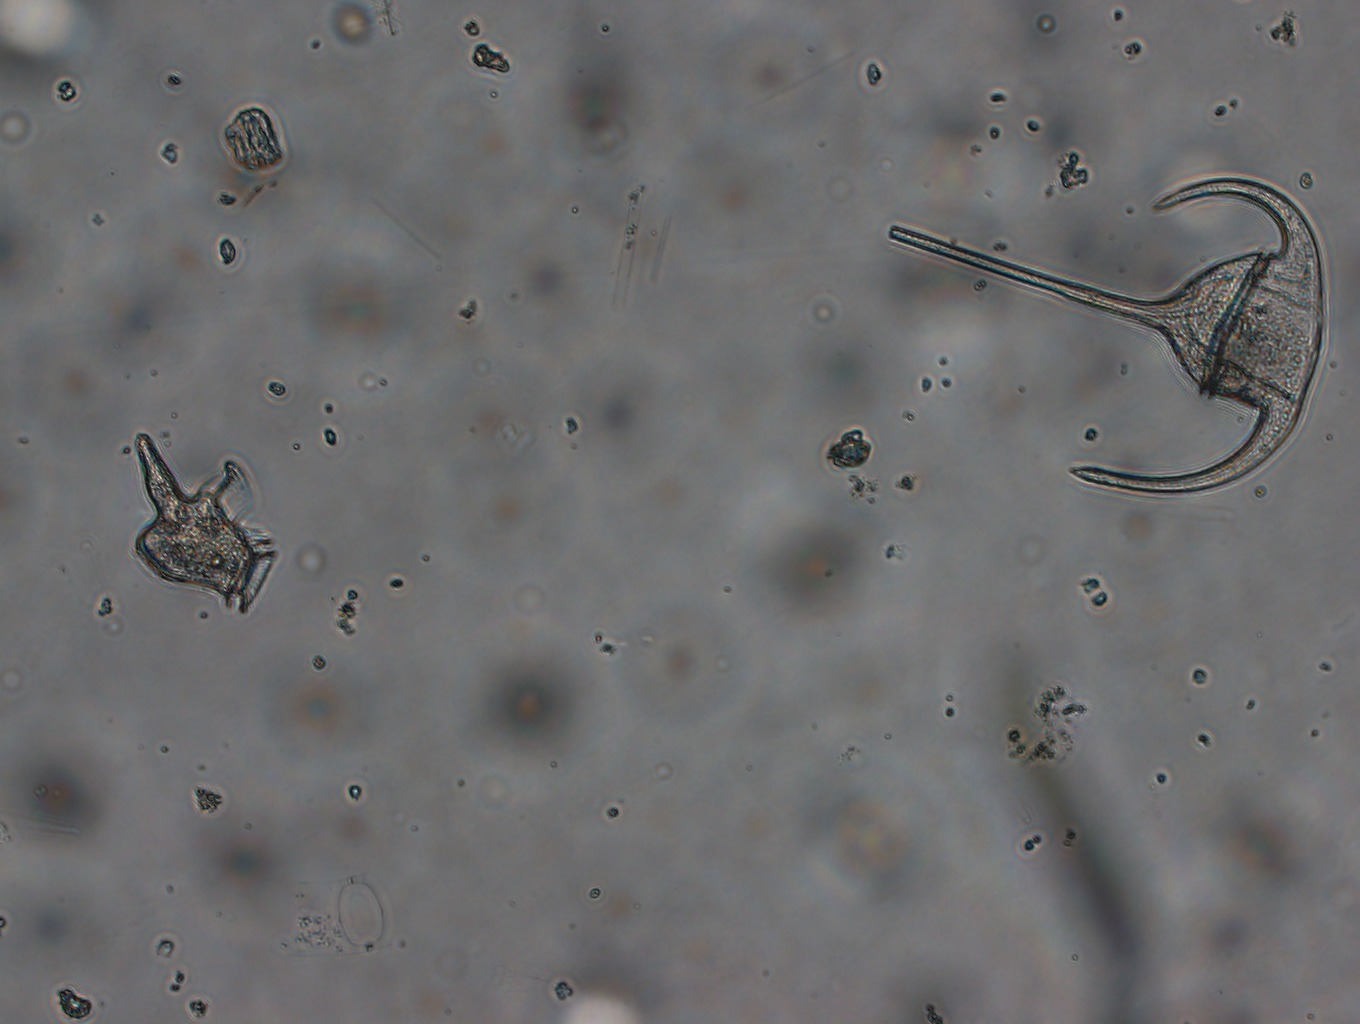ceratium tripos: (874, 160, 1341, 495)
dinophysis caudata: (119, 422, 291, 620)
